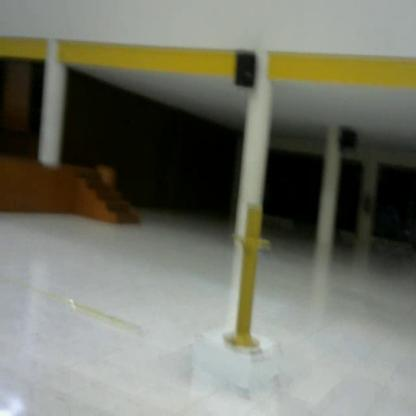pole: (223, 203, 275, 359)
